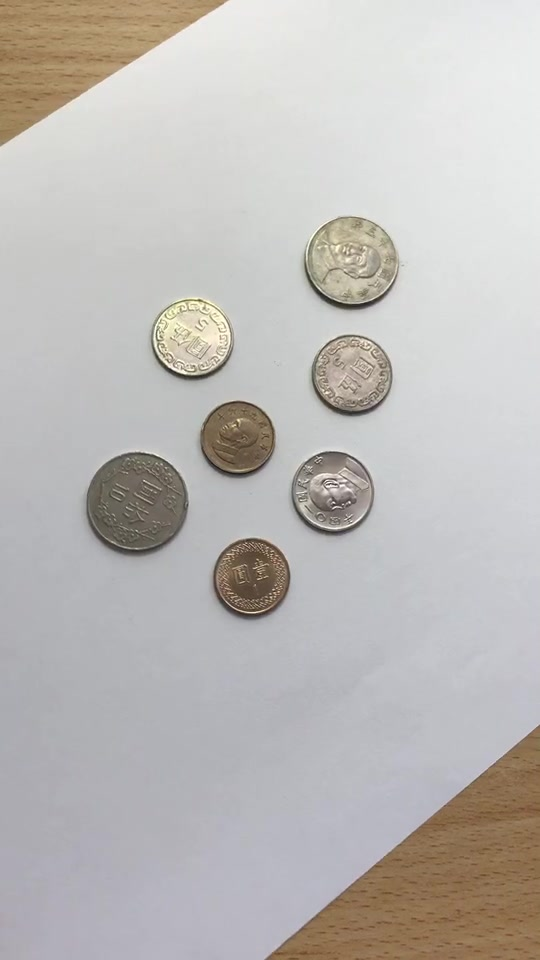1 dallar: (198, 393, 281, 481), (210, 531, 293, 619)
10 dallar: (76, 448, 191, 557), (294, 203, 409, 312)
5 dallar: (145, 292, 243, 383), (301, 332, 399, 423), (289, 448, 387, 539)
